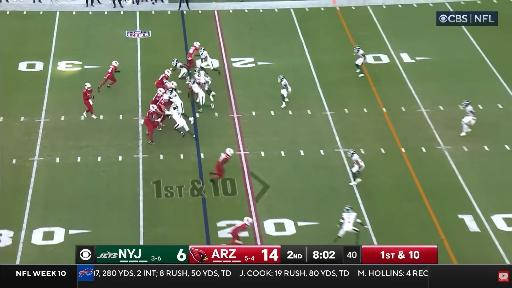Helmet: (243, 217, 252, 225), (167, 87, 174, 96), (226, 148, 233, 156), (347, 150, 355, 157), (344, 206, 352, 212), (462, 100, 470, 106), (85, 82, 91, 89), (163, 94, 170, 100), (150, 105, 157, 111), (170, 82, 177, 88), (158, 88, 165, 94), (279, 75, 285, 82), (354, 46, 360, 52), (165, 70, 171, 76), (194, 41, 200, 47), (172, 59, 177, 66), (195, 68, 200, 74), (112, 61, 118, 66), (200, 47, 205, 53), (190, 80, 195, 85), (172, 107, 178, 110)
Jersey: (340, 212, 361, 230), (231, 223, 248, 235), (157, 97, 172, 109), (195, 71, 209, 83), (172, 99, 183, 114), (351, 154, 364, 166), (187, 46, 199, 59), (156, 74, 169, 85), (106, 65, 117, 77), (218, 154, 230, 165), (151, 93, 162, 104), (189, 83, 201, 93), (281, 79, 290, 92), (167, 87, 177, 98), (146, 110, 156, 121), (465, 105, 475, 116), (83, 89, 92, 101), (356, 49, 366, 59), (200, 51, 209, 62), (176, 62, 185, 69)
Player: (334, 206, 367, 244), (166, 96, 195, 138), (168, 90, 193, 123), (195, 68, 215, 108), (210, 148, 233, 182), (228, 217, 252, 245), (98, 61, 119, 91), (145, 105, 161, 144), (348, 150, 365, 185), (460, 100, 476, 136), (187, 80, 205, 112), (200, 47, 220, 74), (157, 94, 172, 126), (83, 83, 96, 118), (279, 75, 291, 108), (354, 46, 366, 77), (187, 41, 200, 67), (172, 59, 189, 78), (155, 70, 171, 88), (151, 88, 165, 105), (166, 82, 181, 97)
